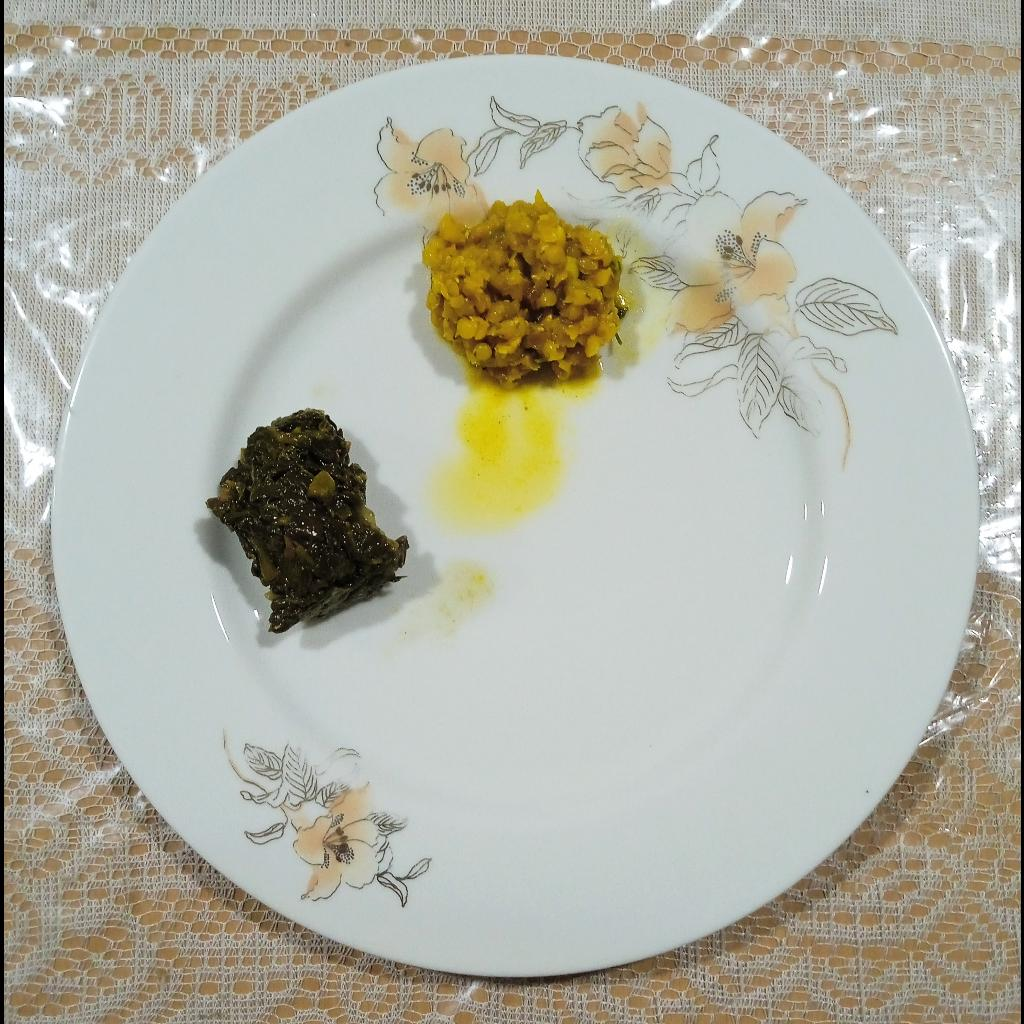daal: (423, 193, 620, 389)
shak: (206, 408, 407, 635)
